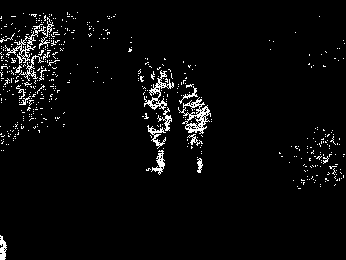person: (177, 86, 215, 175), (141, 86, 173, 177)
